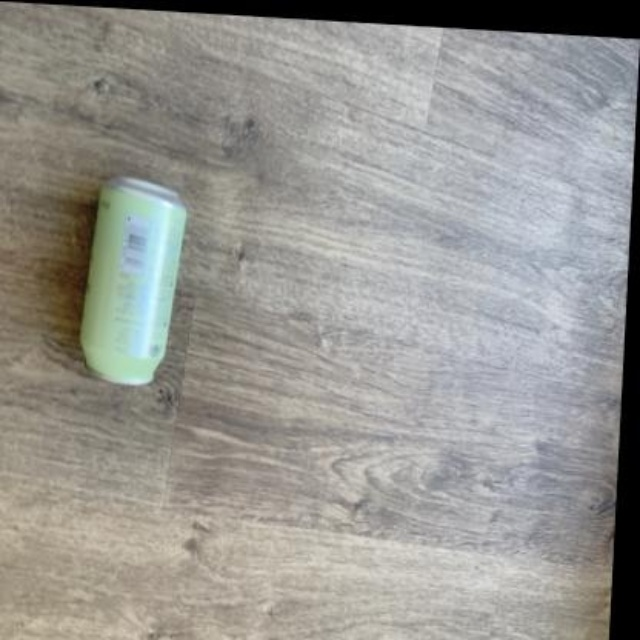trash: (80, 177, 185, 383)
